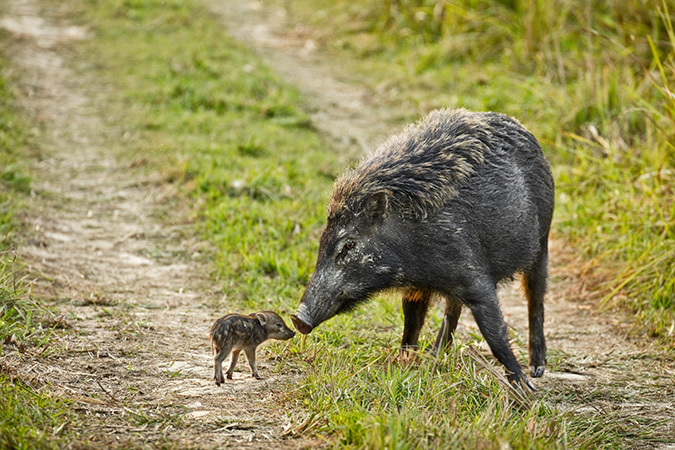boar: (287, 101, 560, 393), (198, 304, 300, 390)
